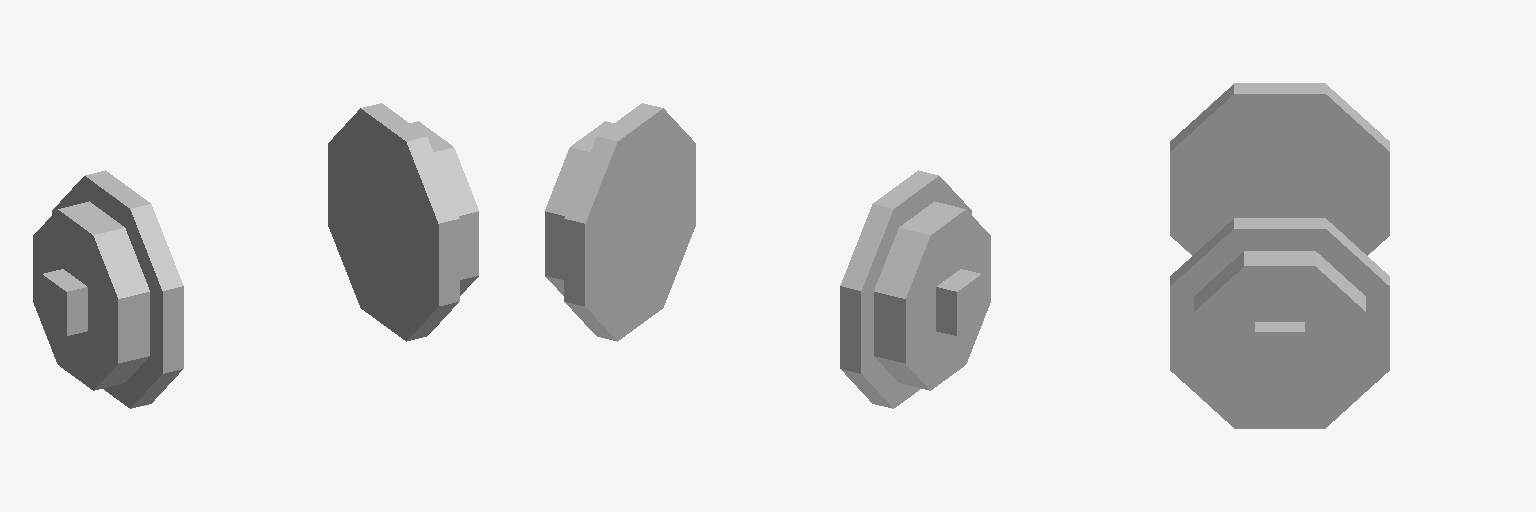
Rendered from wheels.obj.
The picture shows the model from 3 angles: view 1: azimuth 30°, elevation 25°; view 2: azimuth 150°, elevation 25°; view 3: azimuth 270°, elevation 25°; orthographic projection.
Visible parts, largest first — view 1: 18x18_ALT_Cube.002_1, 18x18_ALT_Cube.002_0, cube_0; view 2: 18x18_ALT_Cube.002_1, 18x18_ALT_Cube.002_0, cube_0; view 3: 18x18_ALT_Cube.002_1, 18x18_ALT_Cube.002_0, cube_1.
Boxes of the visible parts, x1,y1,x2,y2 form: 18x18_ALT_Cube.002_1: [328, 103, 478, 341]; 18x18_ALT_Cube.002_0: [33, 170, 183, 408]; cube_0: [42, 269, 87, 335]; 18x18_ALT_Cube.002_1: [545, 103, 695, 341]; 18x18_ALT_Cube.002_0: [840, 170, 990, 408]; cube_0: [936, 269, 981, 335]; 18x18_ALT_Cube.002_1: [1170, 218, 1389, 428]; 18x18_ALT_Cube.002_0: [1170, 83, 1389, 255]; cube_1: [1255, 322, 1304, 376].
Bounding box in the file's own units: 2.38 × 1.12 × 1.12.